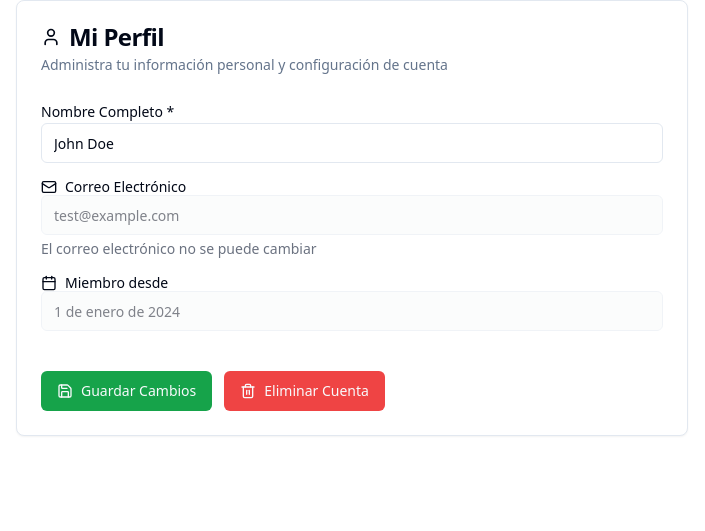
Test: CustomerProfilePage › handles profile update errors
The image size is (705, 531).
Replace the text in the field labelled "Nombre Completo *" with "Jane Doe" at (352, 143), box [41, 123, 663, 163]
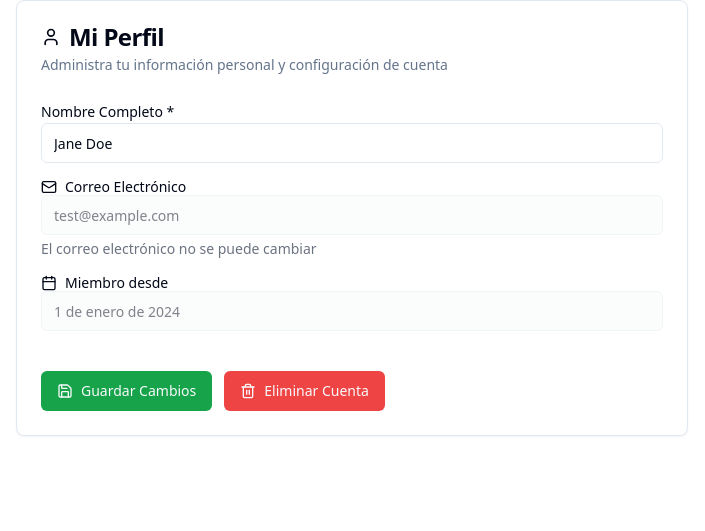
Click the button "Guardar Cambios".
click(127, 391)  # box [41, 371, 212, 411]
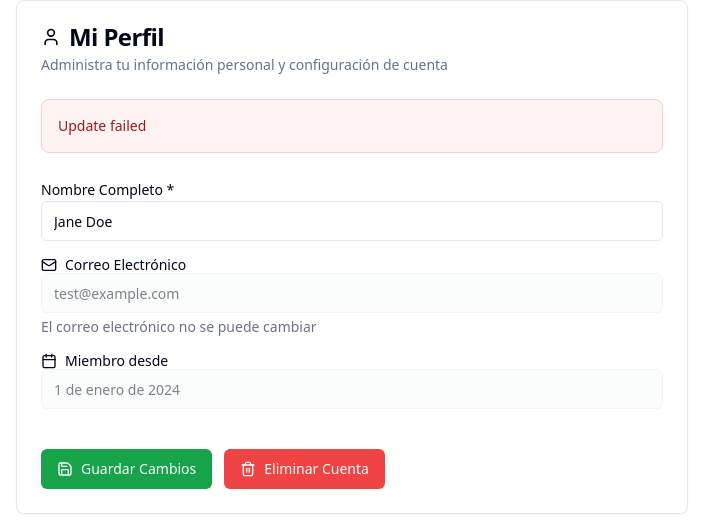
Expected: the text "Update failed" is shown, [58, 116, 146, 135]
